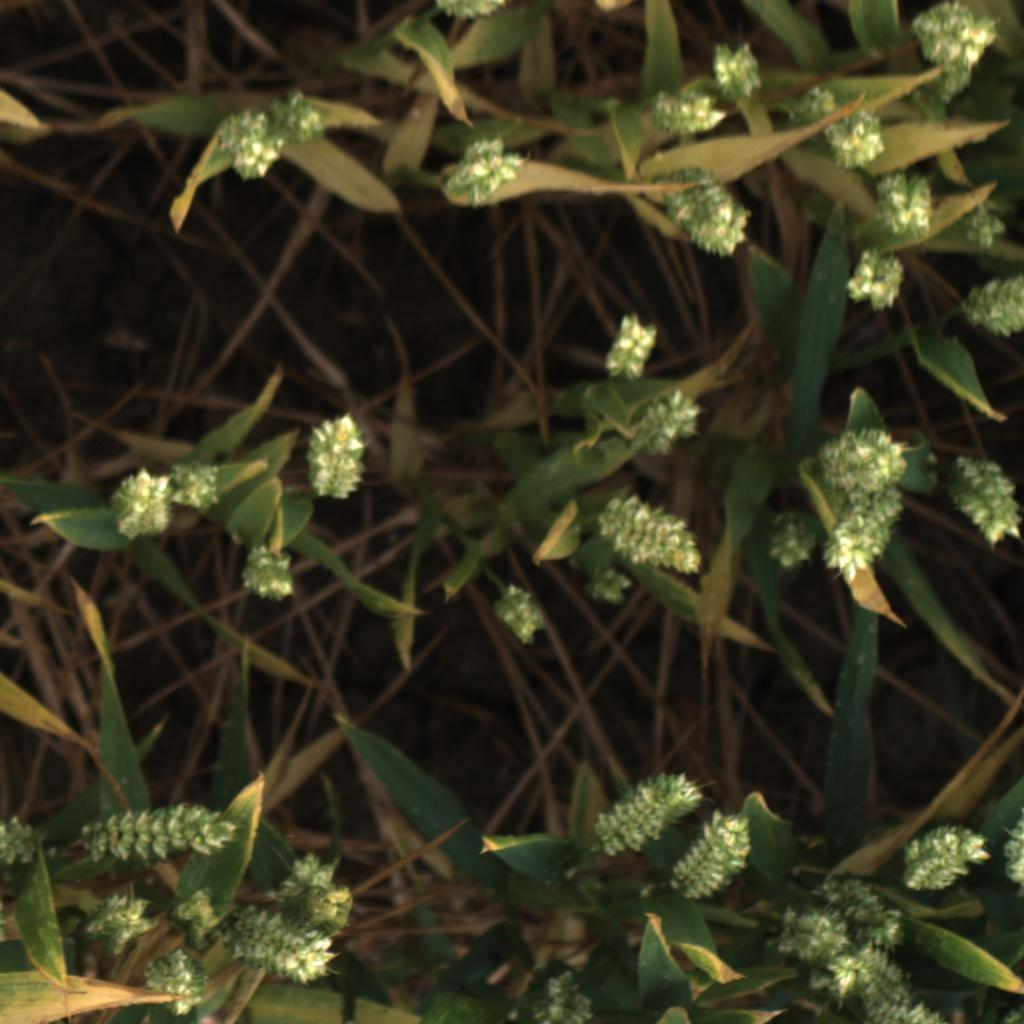0-0: (210, 898, 342, 994), (642, 164, 757, 266), (899, 0, 1007, 108), (79, 800, 241, 871), (595, 491, 709, 585), (809, 414, 921, 509), (593, 768, 706, 861), (818, 475, 914, 584), (667, 809, 753, 900), (946, 452, 1024, 552), (261, 851, 362, 928), (901, 814, 991, 898), (819, 858, 902, 948), (134, 940, 218, 1023), (298, 410, 369, 503), (445, 133, 527, 212), (79, 886, 165, 957), (761, 898, 847, 964), (633, 385, 705, 462), (695, 35, 772, 106), (109, 463, 174, 545), (828, 942, 905, 1011), (648, 84, 732, 144), (874, 178, 941, 249), (169, 884, 236, 954), (488, 579, 555, 649), (824, 108, 891, 177), (601, 308, 661, 385), (219, 109, 280, 184), (843, 245, 907, 315), (957, 274, 1024, 338), (234, 545, 298, 609), (164, 453, 229, 516), (529, 966, 598, 1024), (268, 89, 332, 148), (762, 509, 821, 572), (858, 993, 968, 1024), (0, 808, 40, 889), (957, 203, 1017, 253), (578, 562, 641, 609), (996, 799, 1024, 904), (789, 79, 841, 126), (431, 0, 515, 25)
